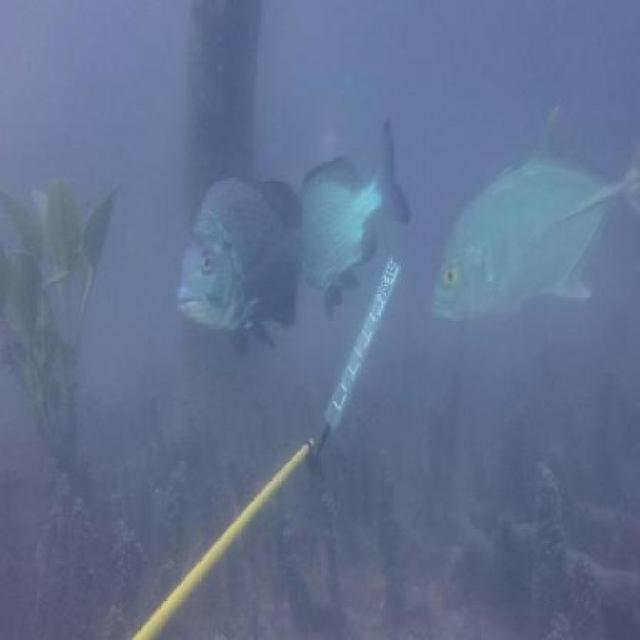Caranx: (427, 104, 640, 330)
acanthopagrus_palmaris: (175, 168, 302, 358), (296, 114, 410, 320)
